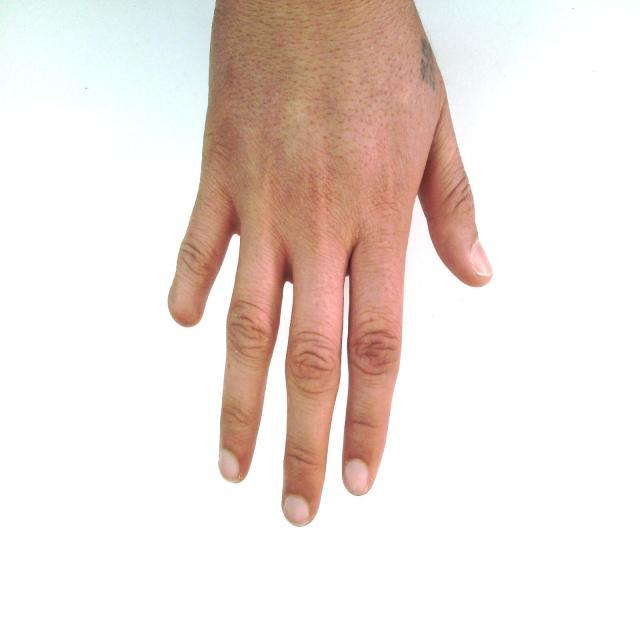Fingernail: (345, 460, 368, 494), (284, 496, 310, 525), (471, 242, 492, 275), (219, 450, 239, 482)
